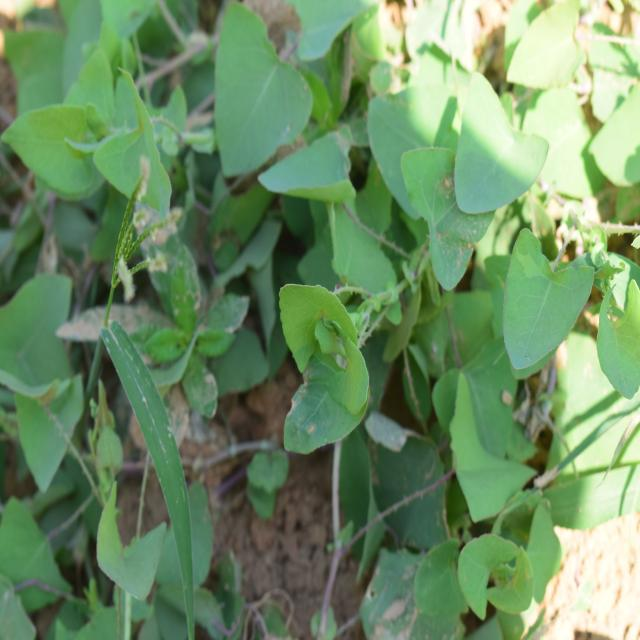Asiatic_Smartweed: (244, 59, 496, 446), (0, 8, 197, 220), (401, 401, 575, 624), (507, 236, 640, 392)
